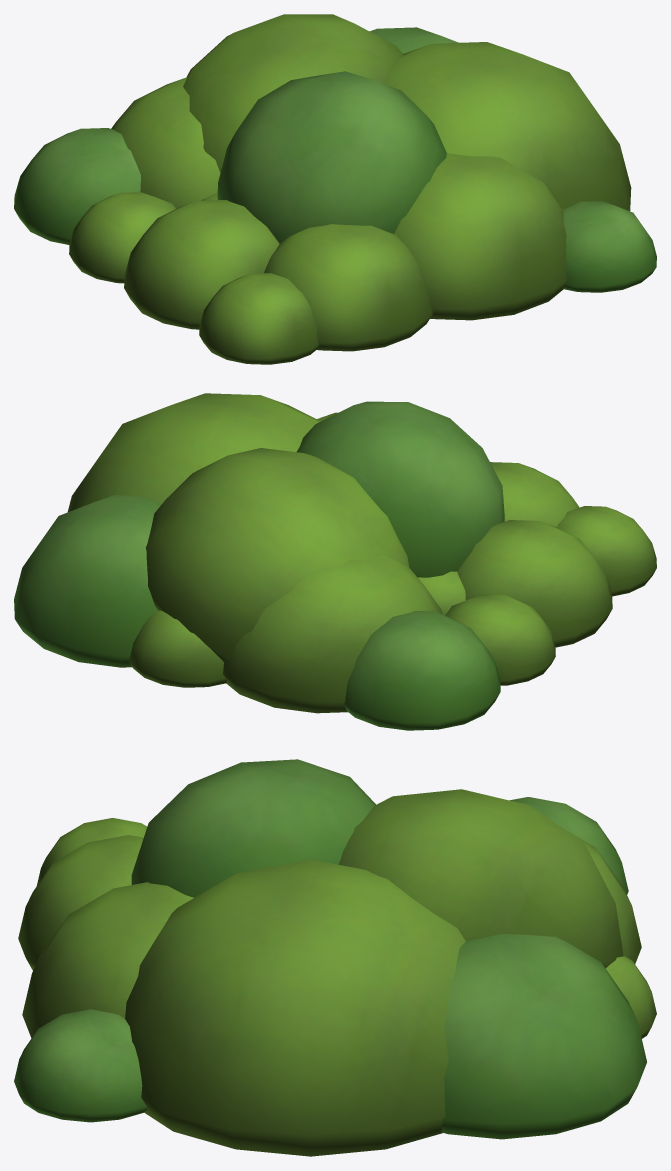
Rendered from Hills1.fbx.
3 renders of one model, top to bottom at view 1: azimuth 30°, elevation 25°; view 2: azimuth 150°, elevation 25°; view 3: azimuth 270°, elevation 25°, orthographic. The views are drawn at different scales.
Visible parts, largest first — view 1: pCube52, pCube13, pCube5, pCube11, pCube50, pCube2, pCube12, pCube9, pCube3, pCube6, pCube4, pCube7; view 2: pCube50, pCube52, pCube3, pCube7, pCube13, pCube12, pCube2, pCube4, pCube9, pCube8, pCube11, pCube1; view 3: pCube13, pCube7, pCube50, pCube52, pCube5, pCube6, pCube11, pCube12, pCube9, pCube8, pCube3.
Boxes of the visible parts, x1=… form: pCube52: x1=217, y1=71, x2=446, y2=243; pCube13: x1=384, y1=42, x2=631, y2=211; pCube5: x1=394, y1=153, x2=566, y2=320; pCube11: x1=264, y1=224, x2=432, y2=351; pCube50: x1=183, y1=14, x2=403, y2=172; pCube2: x1=124, y1=199, x2=279, y2=329; pCube12: x1=14, y1=128, x2=140, y2=244; pCube9: x1=199, y1=273, x2=318, y2=364; pCube3: x1=111, y1=77, x2=220, y2=208; pCube6: x1=563, y1=201, x2=656, y2=292; pCube4: x1=69, y1=192, x2=175, y2=283; pCube7: x1=370, y1=27, x2=458, y2=53; pCube50: x1=146, y1=448, x2=409, y2=662; pCube52: x1=296, y1=401, x2=504, y2=577; pCube3: x1=223, y1=555, x2=442, y2=713; pCube7: x1=14, y1=494, x2=161, y2=667; pCube13: x1=67, y1=393, x2=320, y2=511; pCube12: x1=344, y1=611, x2=500, y2=730; pCube2: x1=457, y1=520, x2=612, y2=647; pCube4: x1=445, y1=594, x2=555, y2=685; pCube9: x1=557, y1=506, x2=656, y2=596; pCube8: x1=129, y1=610, x2=227, y2=687; pCube11: x1=490, y1=462, x2=579, y2=526; pCube1: x1=418, y1=571, x2=465, y2=615; pCube13: x1=125, y1=859, x2=465, y2=1156; pCube7: x1=441, y1=934, x2=646, y2=1139; pCube50: x1=338, y1=789, x2=623, y2=968; pCube52: x1=131, y1=759, x2=376, y2=897; pCube5: x1=22, y1=882, x2=193, y2=1038; pCube6: x1=14, y1=1009, x2=146, y2=1122; pCube11: x1=18, y1=835, x2=143, y2=970; pCube12: x1=509, y1=797, x2=628, y2=894; pCube9: x1=37, y1=818, x2=146, y2=885; pCube8: x1=605, y1=955, x2=656, y2=1038; pCube3: x1=562, y1=828, x2=641, y2=964.
Bounding box in the file's own units: 278 × 108 × 256.
